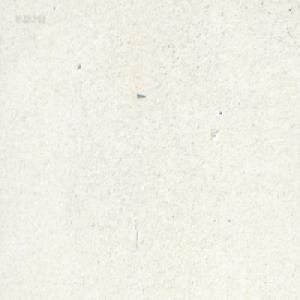Nail: (136, 91, 145, 97)
